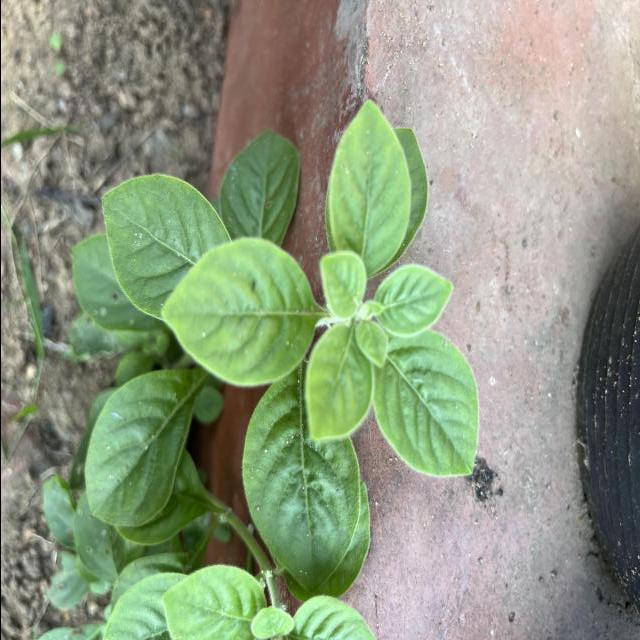Aerva lanata: (235, 370, 364, 596), (363, 326, 482, 482)
